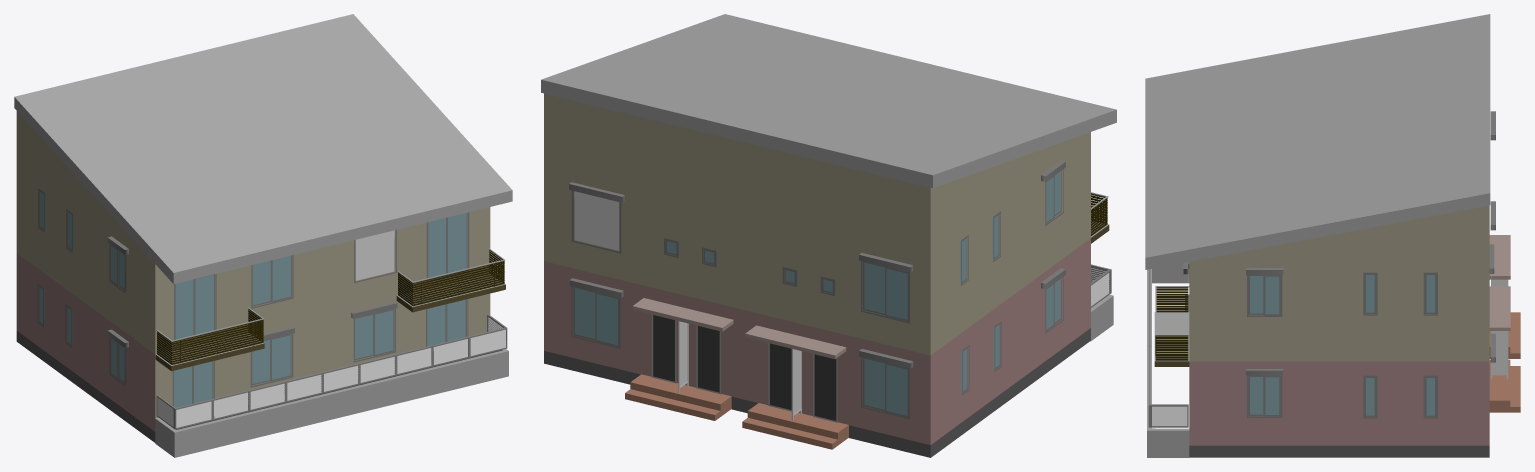
File: House_008_middle.fbx
3 views of the same model, side by side, from view 1: azimuth 30°, elevation 25°; view 2: azimuth 150°, elevation 25°; view 3: azimuth 270°, elevation 25° (orthographic). The views are drawn at different scales.
Visible parts, largest first — view 1: polySurface67; view 2: polySurface67; view 3: polySurface67.
Part boxes in pixels (x1,y1,x2,y2): polySurface67: (14,14,512,457); polySurface67: (541,14,1116,457); polySurface67: (1145,14,1520,457).
Size of the model in its own units: 11.4 by 7.82 by 9.99.
